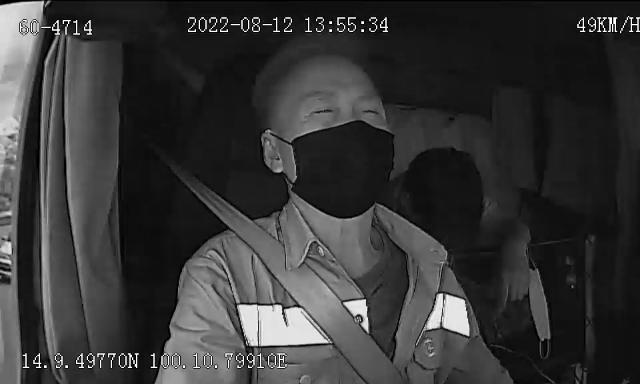Seatbelt: (179, 174, 401, 384)
